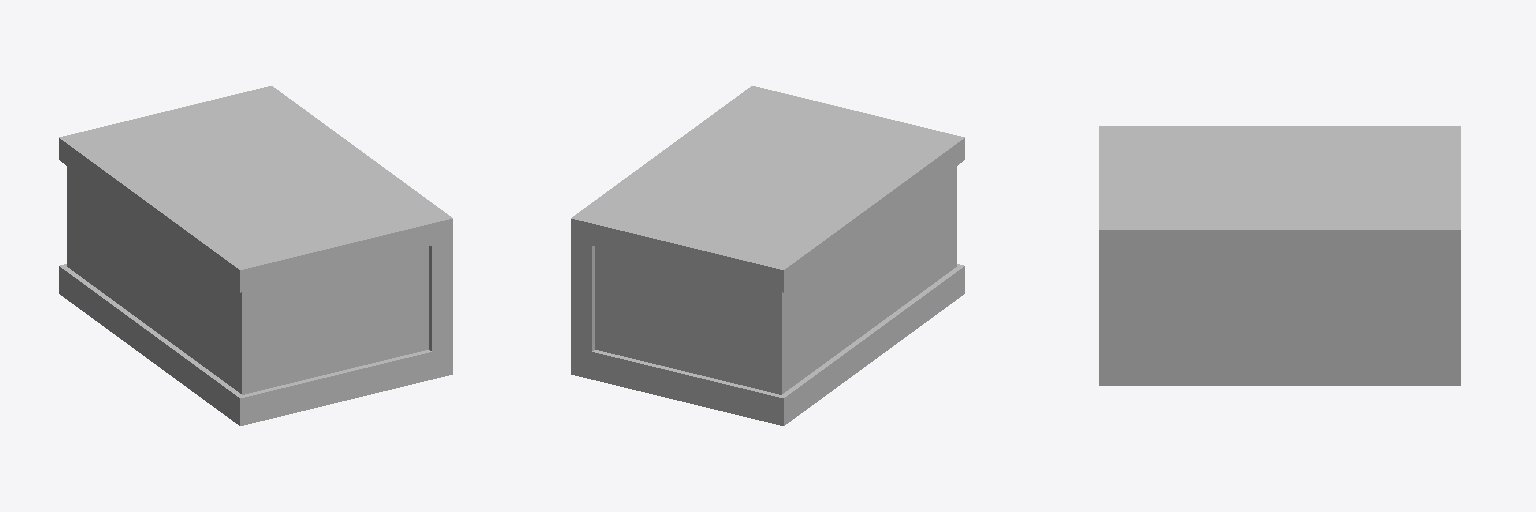
Rendered from Book2.obj.
3 renders of one model, left to right at view 1: azimuth 30°, elevation 25°; view 2: azimuth 150°, elevation 25°; view 3: azimuth 270°, elevation 25°, orthographic.
Visible parts, largest first — view 1: object 1; view 2: object 1; view 3: object 1.
Boxes of the visible parts, x1=… form: object 1: x1=59, y1=86, x2=452, y2=425; object 1: x1=571, y1=86, x2=964, y2=425; object 1: x1=1099, y1=126, x2=1460, y2=385.
Size of the model in its own units: 4 by 2.8 by 5.9.